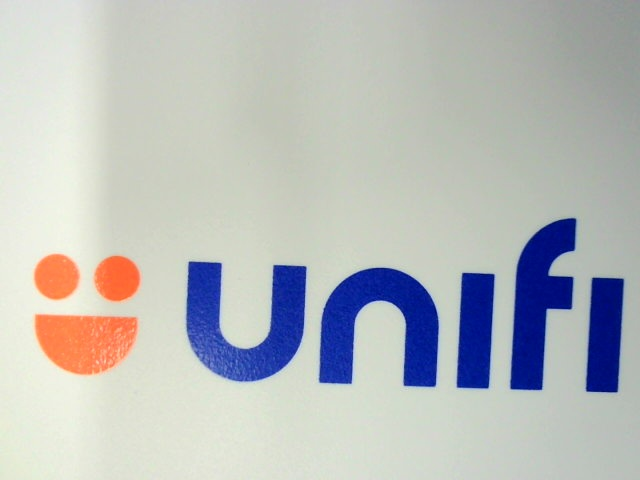BN_unifi: (23, 215, 629, 404)
